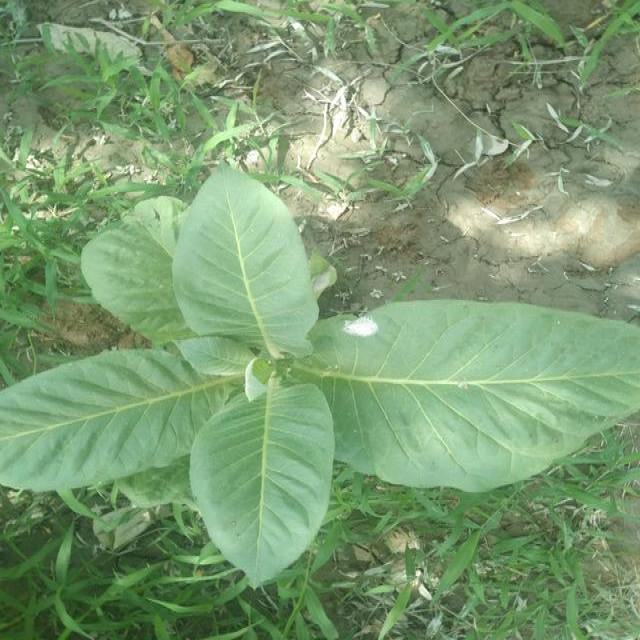crop: (0, 191, 640, 590)
